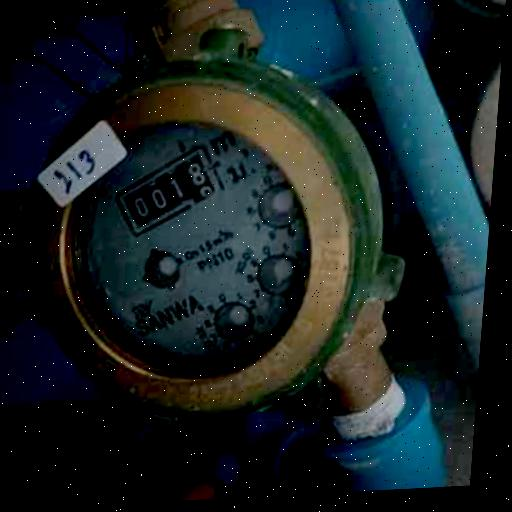0: (117, 186, 159, 232), (138, 174, 177, 218)
1: (157, 164, 195, 207)
8: (175, 152, 219, 206)
border_water_meter_number: (108, 140, 229, 241)
